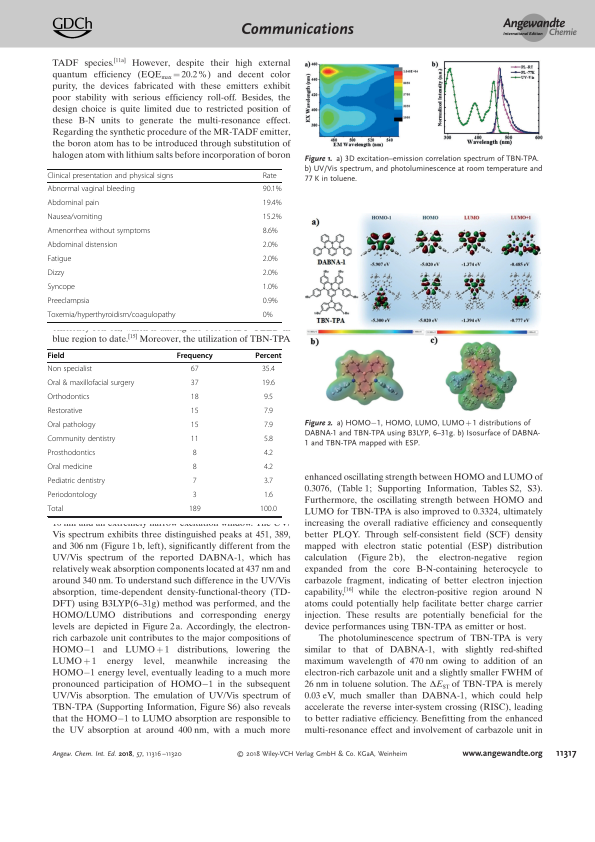borderless: (46, 348, 281, 516), (46, 167, 282, 322)
cell: (46, 310, 176, 320), (47, 171, 174, 180), (47, 226, 151, 236), (47, 184, 136, 194), (47, 379, 135, 389), (47, 240, 119, 250), (47, 435, 116, 445), (47, 477, 106, 487), (47, 212, 103, 222), (47, 198, 100, 208), (47, 491, 98, 501), (47, 421, 96, 431), (47, 449, 96, 459), (47, 365, 93, 375), (47, 463, 93, 473), (47, 296, 90, 306), (47, 393, 90, 403), (47, 407, 83, 417), (176, 352, 214, 361), (47, 282, 76, 292), (254, 352, 282, 361), (47, 254, 72, 264), (262, 184, 282, 194), (262, 198, 282, 208), (262, 212, 282, 222), (259, 505, 278, 515), (47, 268, 65, 278), (262, 226, 279, 236), (262, 240, 279, 250), (262, 254, 279, 264), (262, 268, 279, 278), (262, 282, 279, 292), (262, 296, 279, 306), (47, 505, 64, 515), (47, 352, 65, 361), (261, 365, 276, 375), (261, 379, 276, 389), (262, 171, 278, 180), (188, 505, 201, 515), (262, 310, 273, 320), (263, 393, 274, 403), (263, 407, 274, 417), (263, 421, 274, 431), (263, 435, 274, 445), (263, 449, 274, 459), (263, 463, 274, 473), (263, 477, 274, 487), (263, 491, 274, 501), (190, 365, 199, 375), (190, 379, 199, 389), (190, 393, 199, 403), (190, 407, 199, 417), (190, 421, 199, 431), (190, 435, 199, 445), (192, 449, 198, 459), (192, 463, 198, 473), (192, 477, 198, 487), (192, 491, 198, 501)
